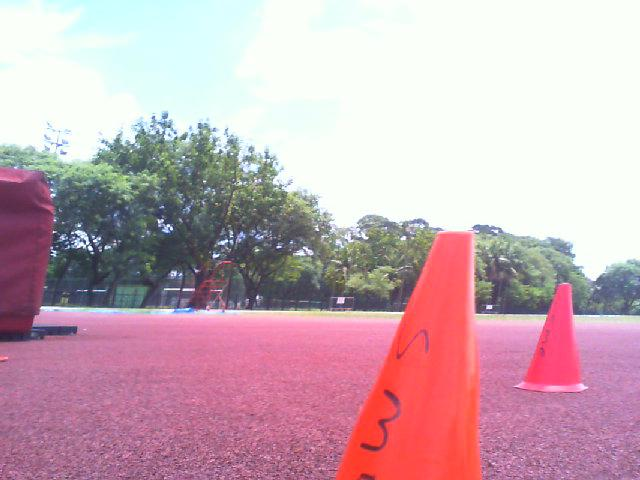0 cone: (333, 232, 482, 480), (514, 283, 588, 392)
